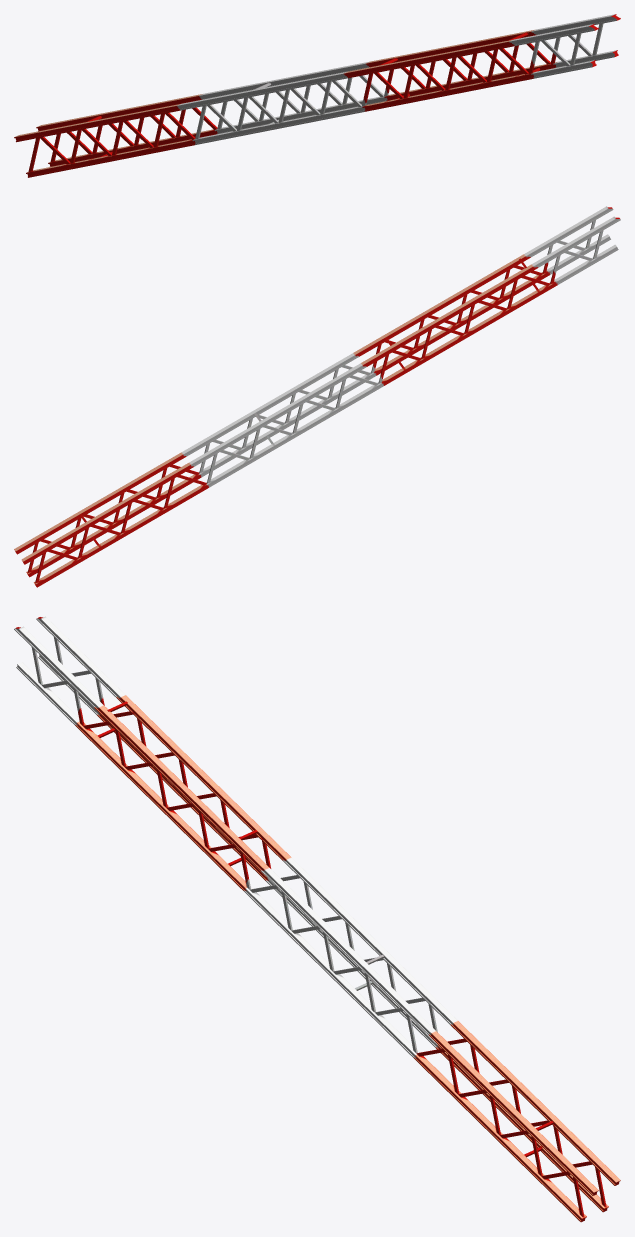
The model's file is kure-n3-arm.obj.
3 views of the same model, one above another, from view 1: azimuth 90°, elevation 25°; view 2: azimuth 150°, elevation 25°; view 3: azimuth 270°, elevation 25° (orthographic). The views are drawn at different scales.
Bounding box in the file's own units: 27.53 × 19.92 × 29.38.
1 material, 1 textured.
